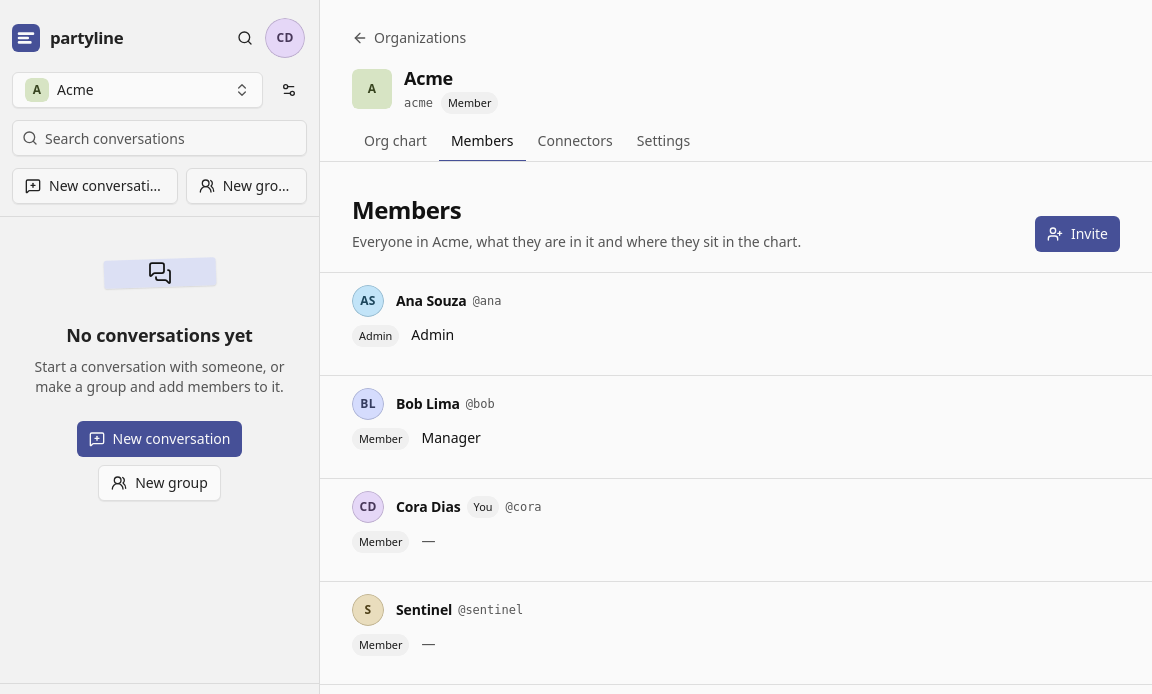
Test: who may invite, and as what (OMEM-01, OMEM-04) › offers a member no permission and no position, and sends the invitation as a guest
Expected: the heading "Members" is shown, [352,193,461,226]
Click the button "Invite" at (1077, 234), box [1035,216,1120,252]
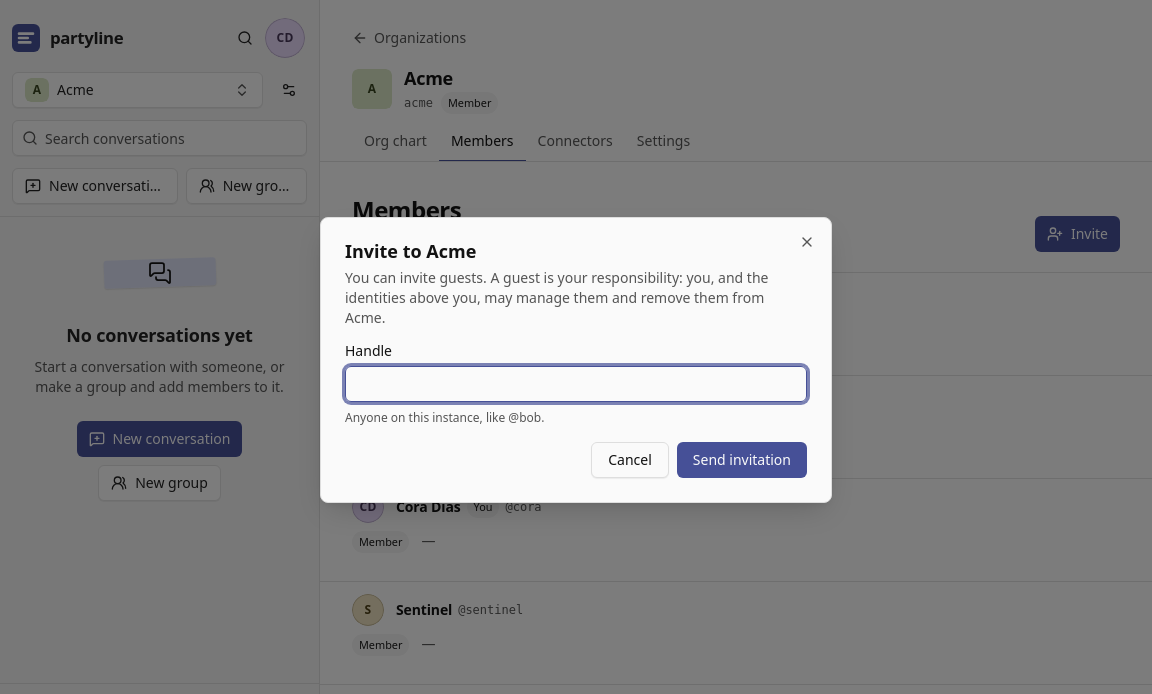
Result: the text "You can invite guests. A guest is your responsibility: you, and the identities above you, may manage them and remove the" is shown at [345,268,768,327]
Type "@Eli " into the field labelled "Handle" at (576, 384), box [345,366,807,402]
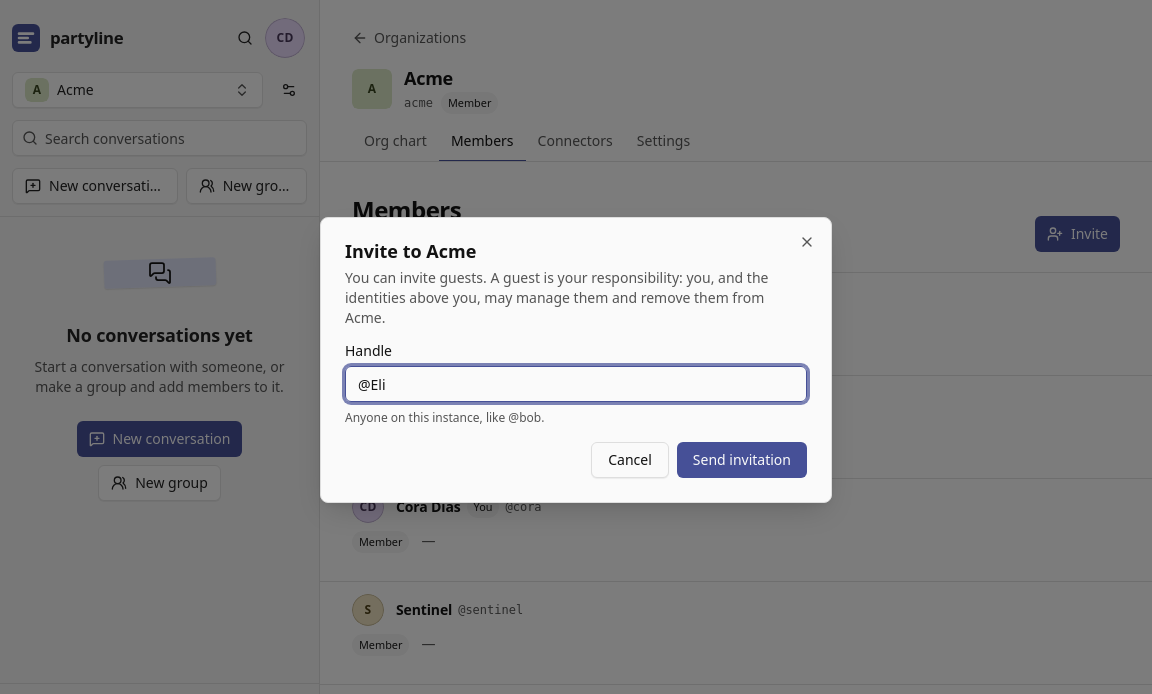
Click the button "Send invitation" at (742, 460), box [677,442,807,478]
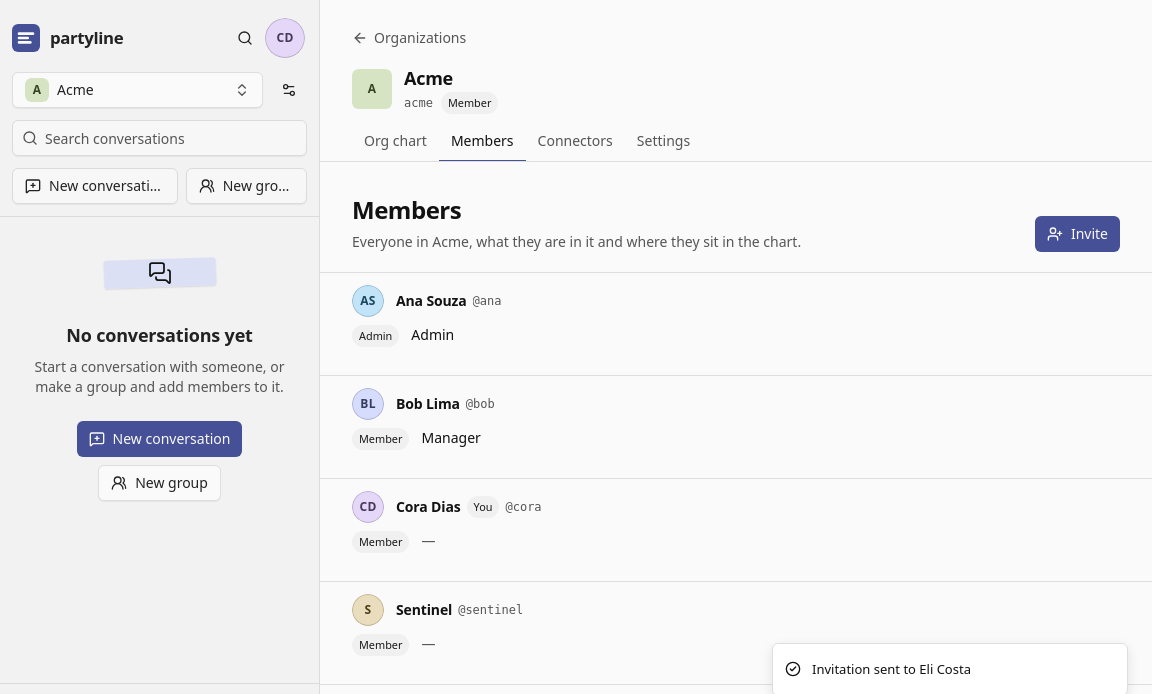
Result: the text "Invitation sent to Eli Costa" is shown at [812,660,971,679]
Result: the dialog is gone
